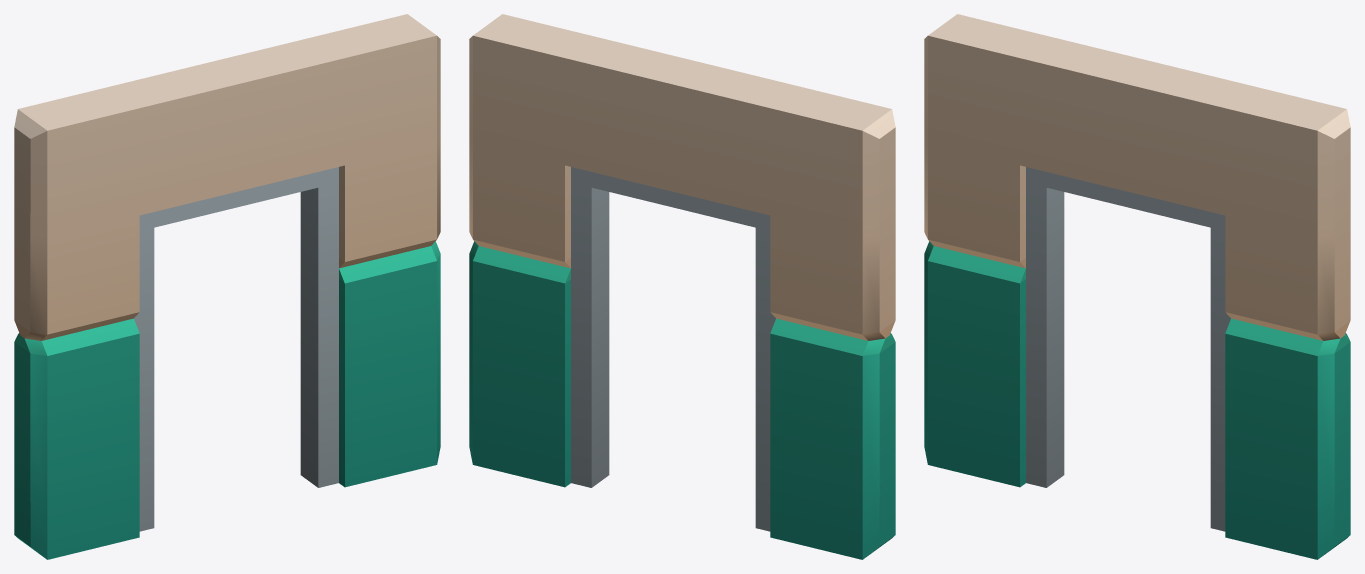
The model's file is wal_doorwayl.glb.
3 views of the same model, side by side, from view 1: azimuth 30°, elevation 25°; view 2: azimuth 150°, elevation 25°; view 3: azimuth 330°, elevation 25° (orthographic).
Parts seen in each view (by area): view 1: wall_doorway; view 2: wall_doorway; view 3: wall_doorway.
Part boxes in pixels (box(x1,y1,x2,y2)): wall_doorway: box(14, 14, 440, 559); wall_doorway: box(469, 14, 895, 559); wall_doorway: box(924, 14, 1350, 559).
Bounding box in the file's own units: 4 × 4 × 0.5.
Materials: 1 (1 with a texture image).
